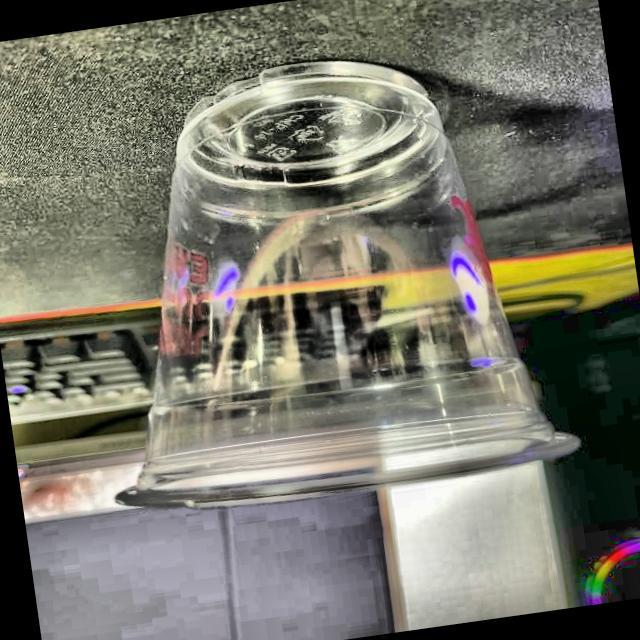plastic cup: (53, 30, 584, 532)
